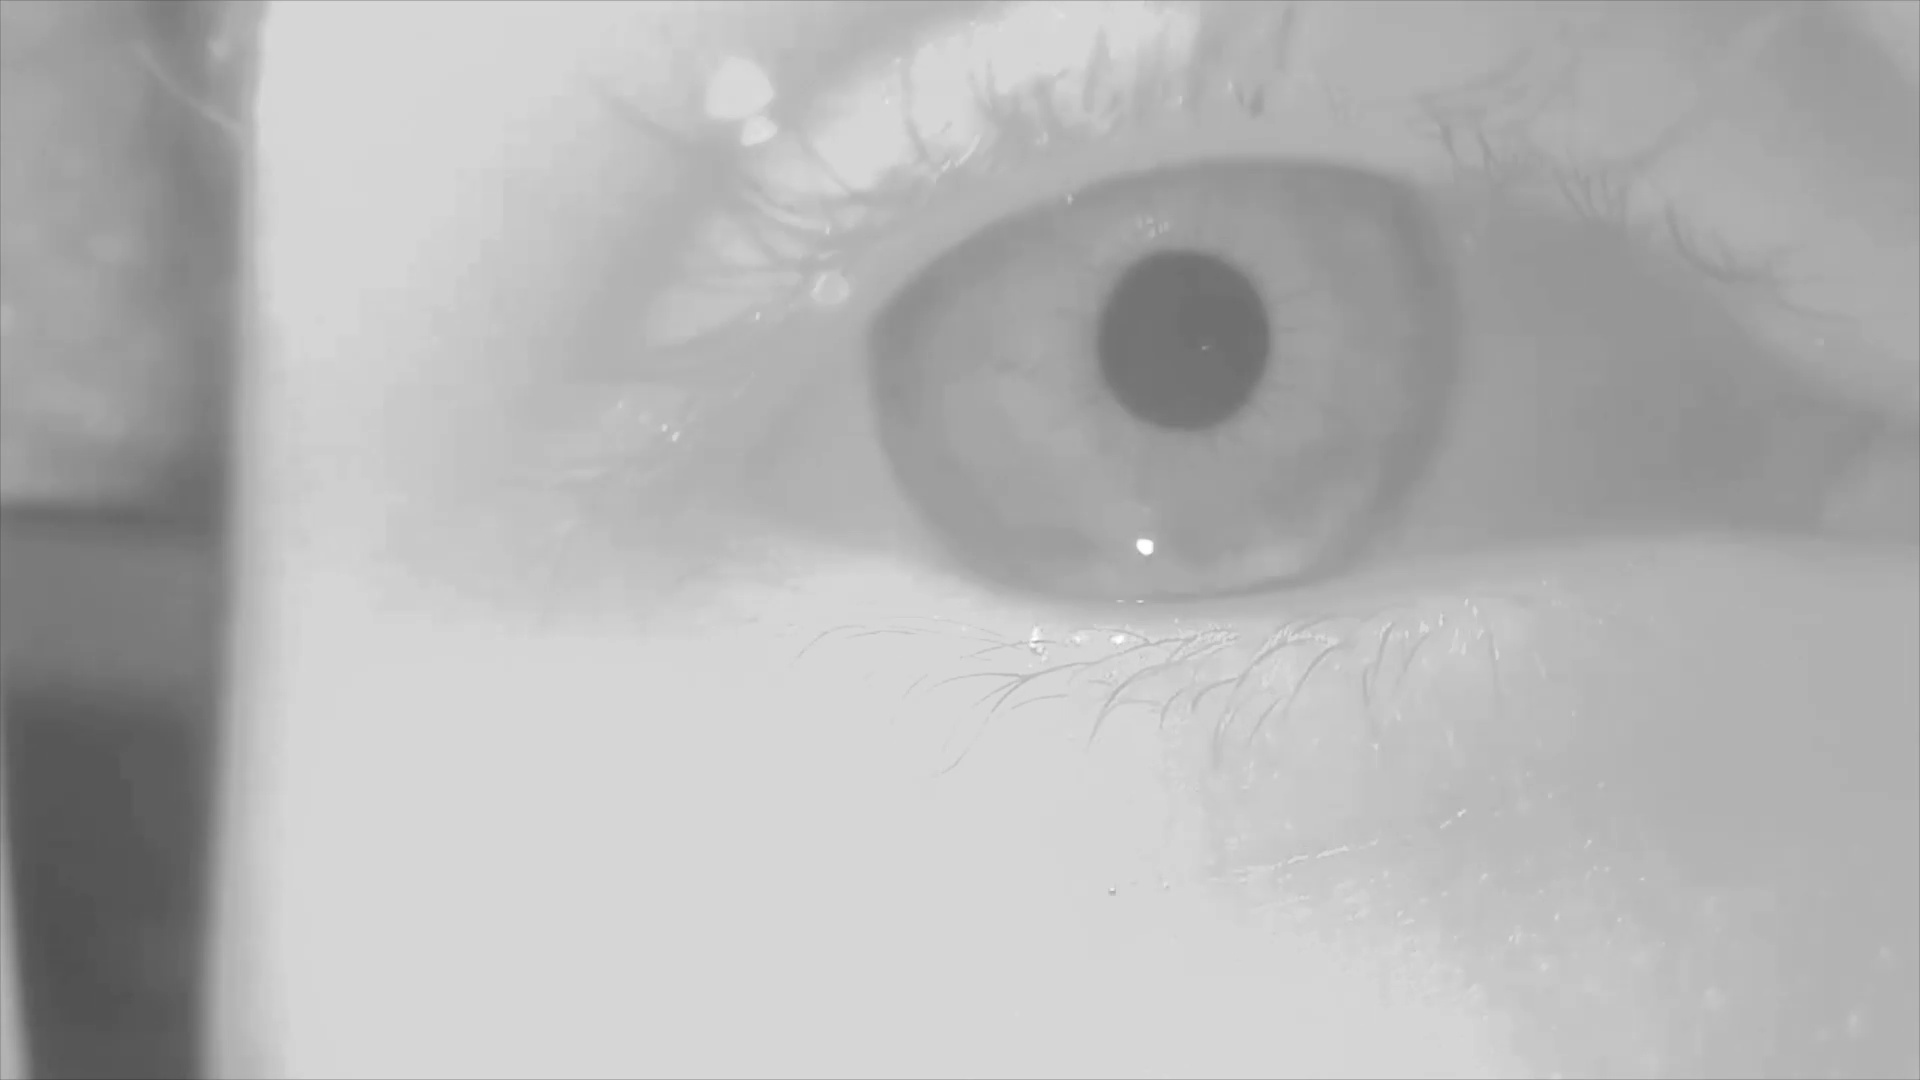pupil: (1096, 250, 1269, 438)
